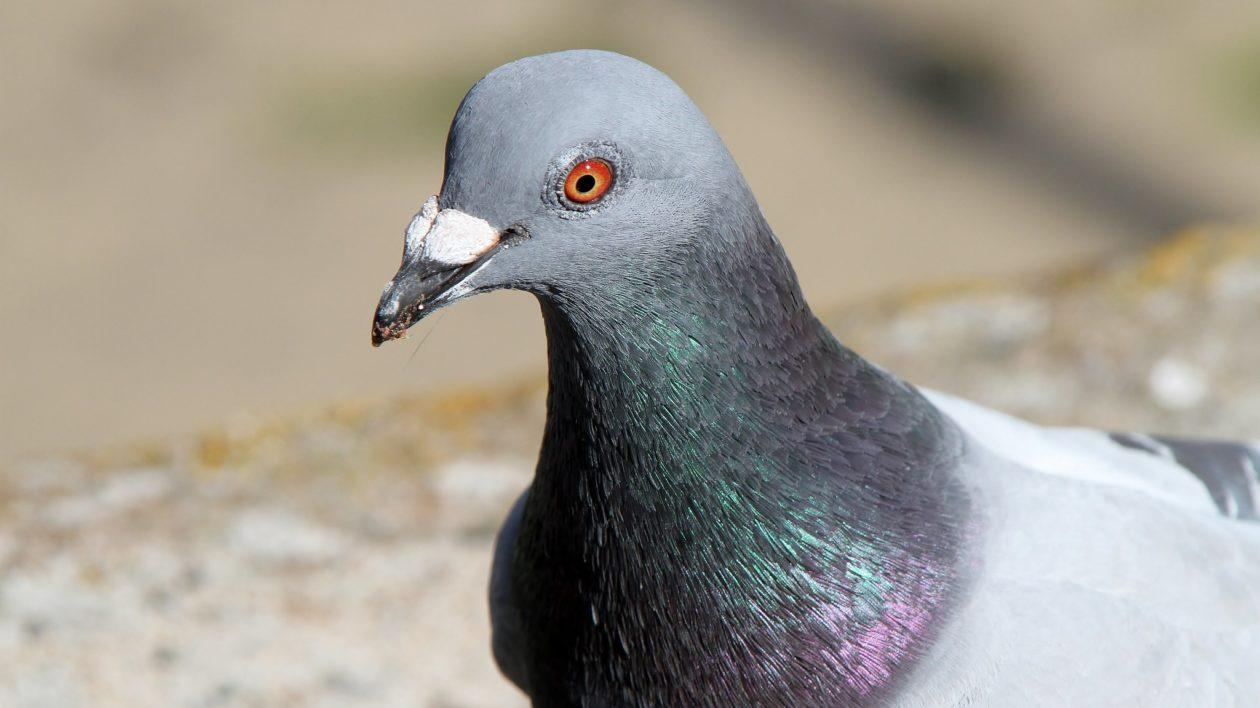Flying Rat: (342, 55, 1260, 708)
